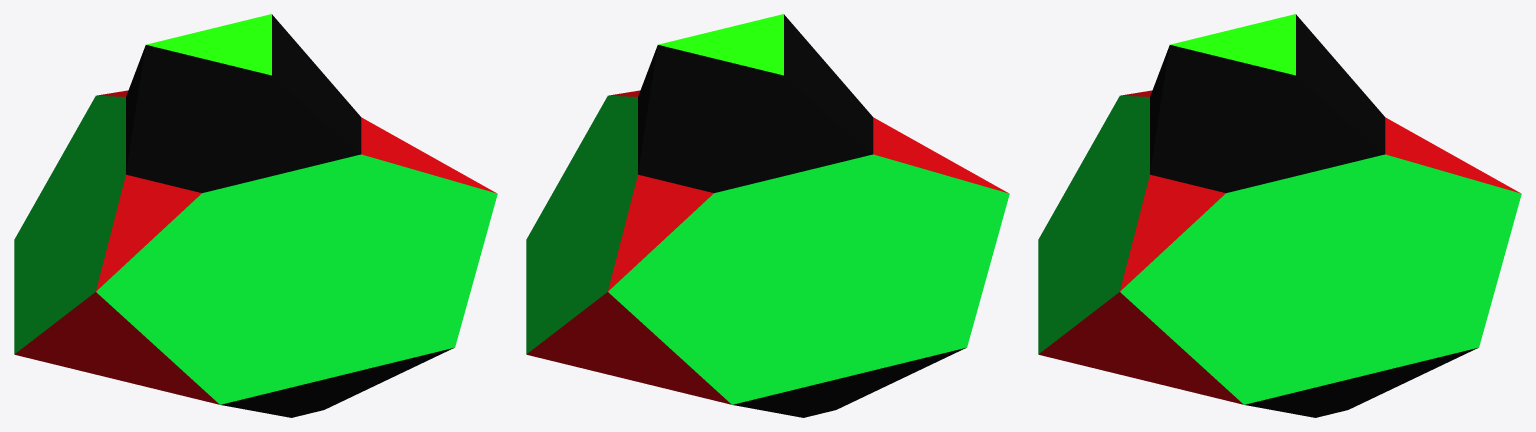
The model's file is slime core.fbx.
3 views of the same model, side by side, from view 1: azimuth 30°, elevation 25°; view 2: azimuth 150°, elevation 25°; view 3: azimuth 270°, elevation 25° (orthographic).
Visible parts, largest first — view 1: Cone; view 2: Cone; view 3: Cone.
Boxes of the visible parts, <box> form: Cone: <box>14,14,497,417</box>; Cone: <box>526,14,1009,417</box>; Cone: <box>1038,14,1521,417</box>.
Size of the model in its own units: 96.95 by 65.57 by 92.09.
